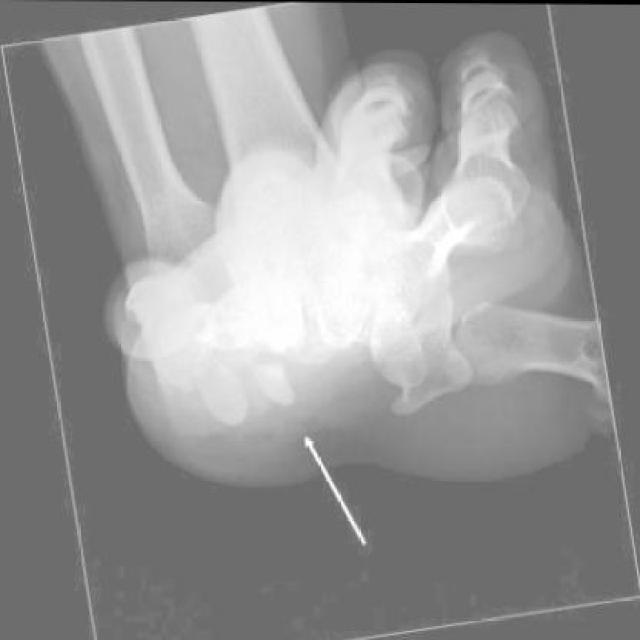Fracture: (238, 343, 294, 380)
